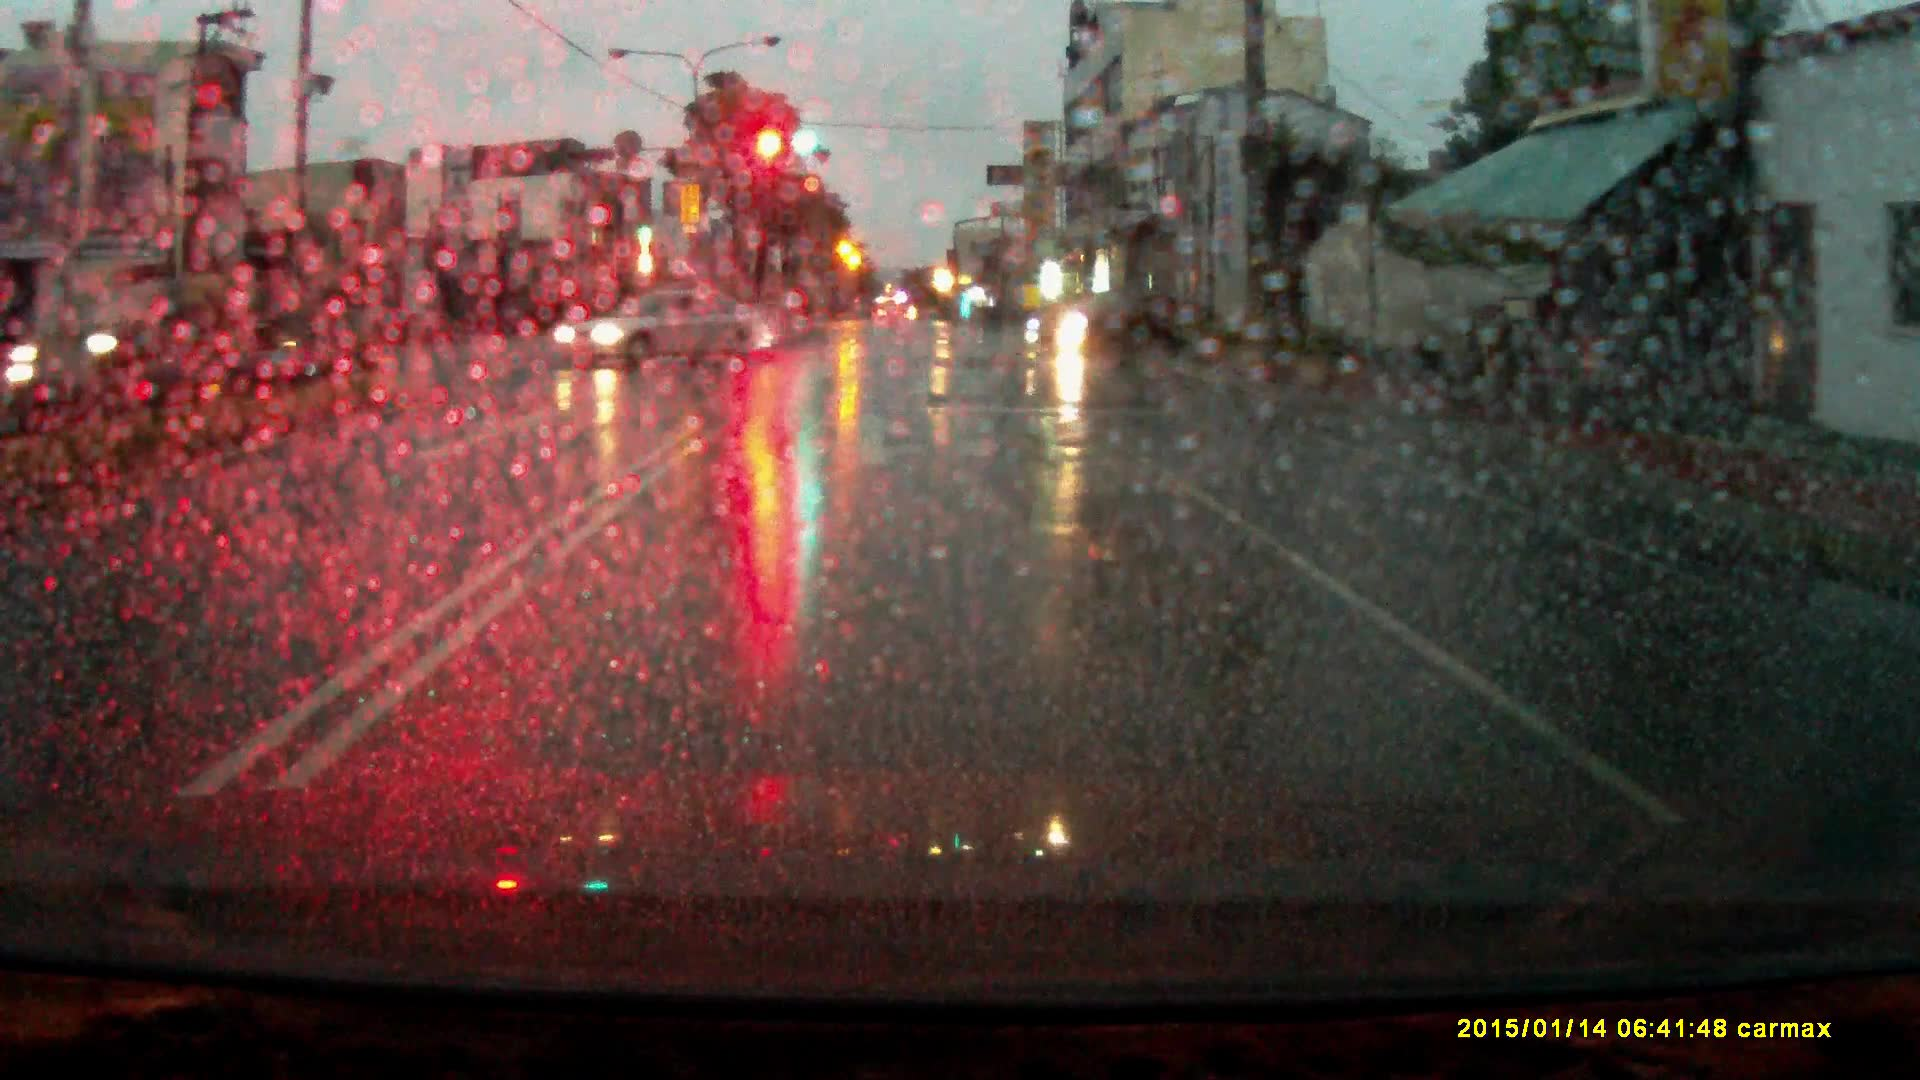vehicle: (69, 266, 330, 382), (553, 286, 778, 371), (1029, 293, 1203, 357)
